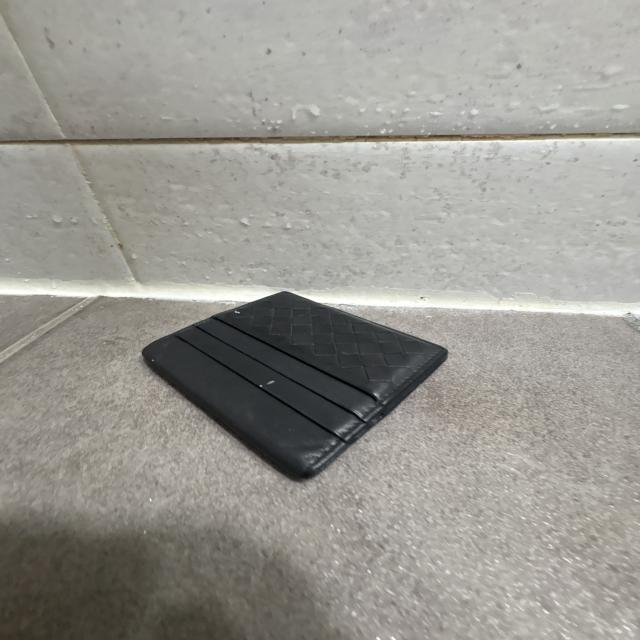wallet: (144, 287, 451, 481)
